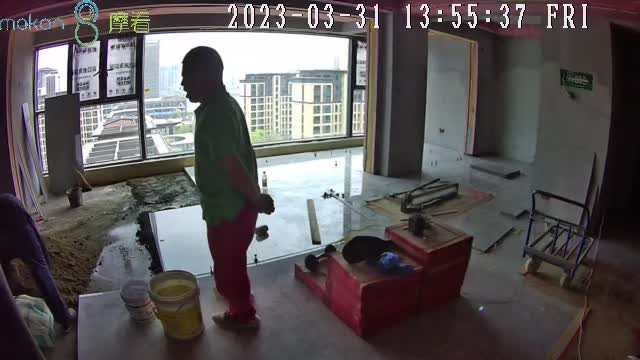people: (180, 45, 274, 328)
window: (32, 32, 371, 178)
